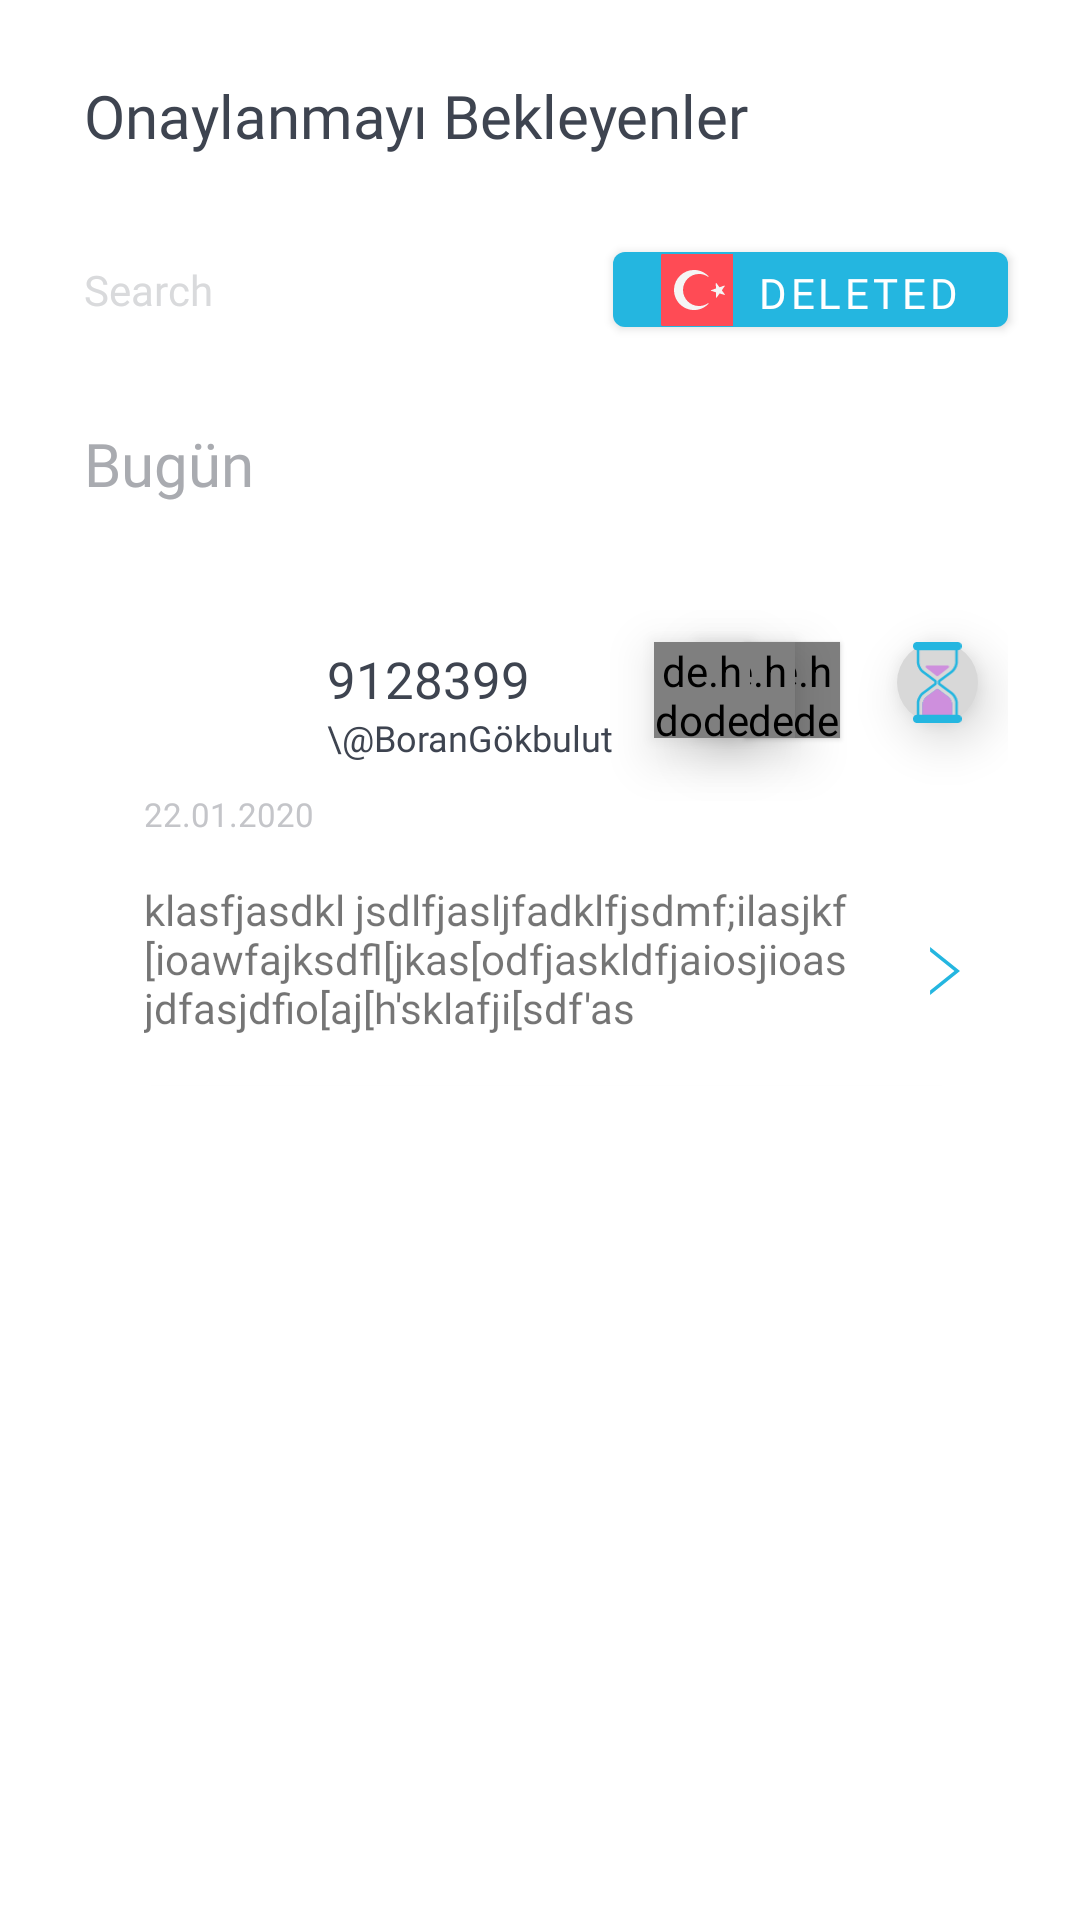

Icon click points for this 1080w x 1920h phone screenshot, format [x,y]:
arrow right: [945,971]
